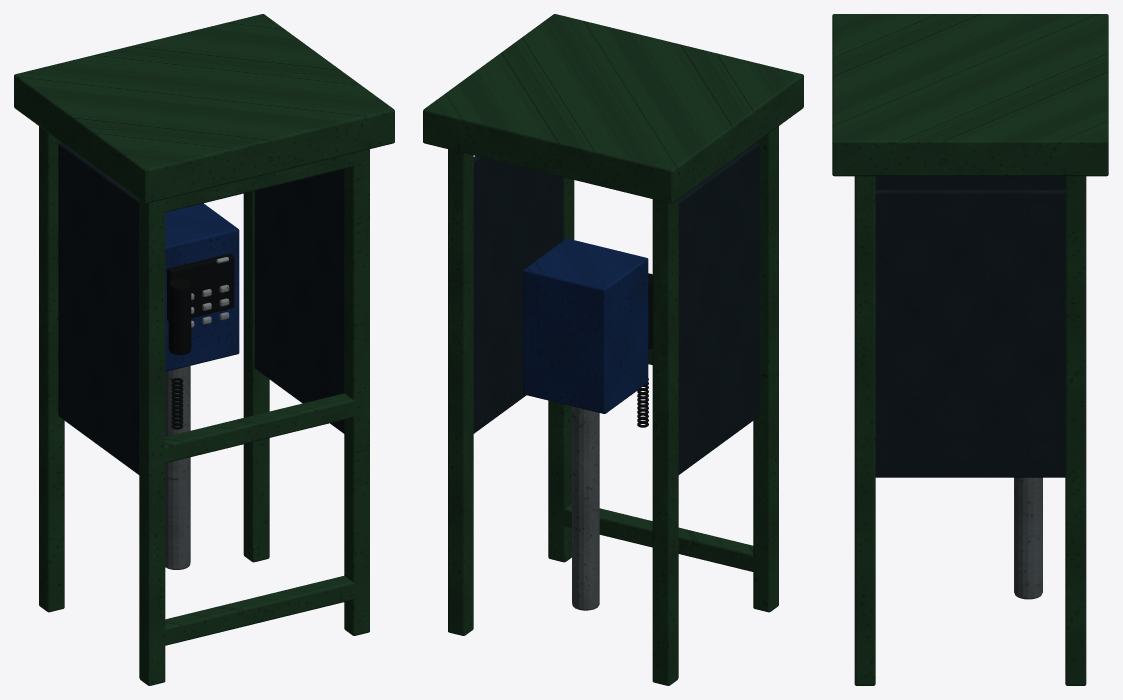
The model's file is PROP-0D93FAFB066D_lod0.glb.
The picture shows the model from 3 angles, left to right: view 1: azimuth 30°, elevation 25°; view 2: azimuth 150°, elevation 25°; view 3: azimuth 270°, elevation 25°; orthographic projection. The views are drawn at different scales.
Parts seen in each view (by area): view 1: booth_roof.001, booth_glazing.001, booth_posts.001, booth_front_rails.001, cabinet.009, fixture_post.004, recessed_front.009, handset.001, phone_cord.001; view 2: booth_roof.001, booth_posts.001, booth_glazing.001, cabinet.009, fixture_post.004, booth_front_rails.001; view 3: booth_glazing.001, booth_roof.001, booth_posts.001, fixture_post.004.
Part boxes in pixels (bbox=[...]): booth_roof.001: bbox=[14, 14, 394, 203]; booth_glazing.001: bbox=[58, 143, 344, 474]; booth_posts.001: bbox=[39, 126, 369, 685]; booth_front_rails.001: bbox=[152, 153, 355, 647]; cabinet.009: bbox=[165, 203, 239, 371]; fixture_post.004: bbox=[165, 366, 190, 569]; recessed_front.009: bbox=[167, 253, 234, 321]; handset.001: bbox=[168, 278, 191, 354]; phone_cord.001: bbox=[171, 378, 183, 429]; booth_roof.001: bbox=[423, 14, 803, 203]; booth_posts.001: bbox=[448, 126, 778, 685]; booth_glazing.001: bbox=[473, 143, 759, 474]; cabinet.009: bbox=[523, 238, 648, 413]; fixture_post.004: bbox=[572, 406, 599, 610]; booth_front_rails.001: bbox=[551, 348, 765, 571]; booth_glazing.001: bbox=[875, 176, 1065, 477]; booth_roof.001: bbox=[832, 14, 1108, 176]; booth_posts.001: bbox=[854, 176, 1086, 685]; fixture_post.004: bbox=[1014, 477, 1042, 599].
Size of the model in its own units: 1.15 by 2.32 by 1.05.
Materials: 6 (6 with a texture image).
